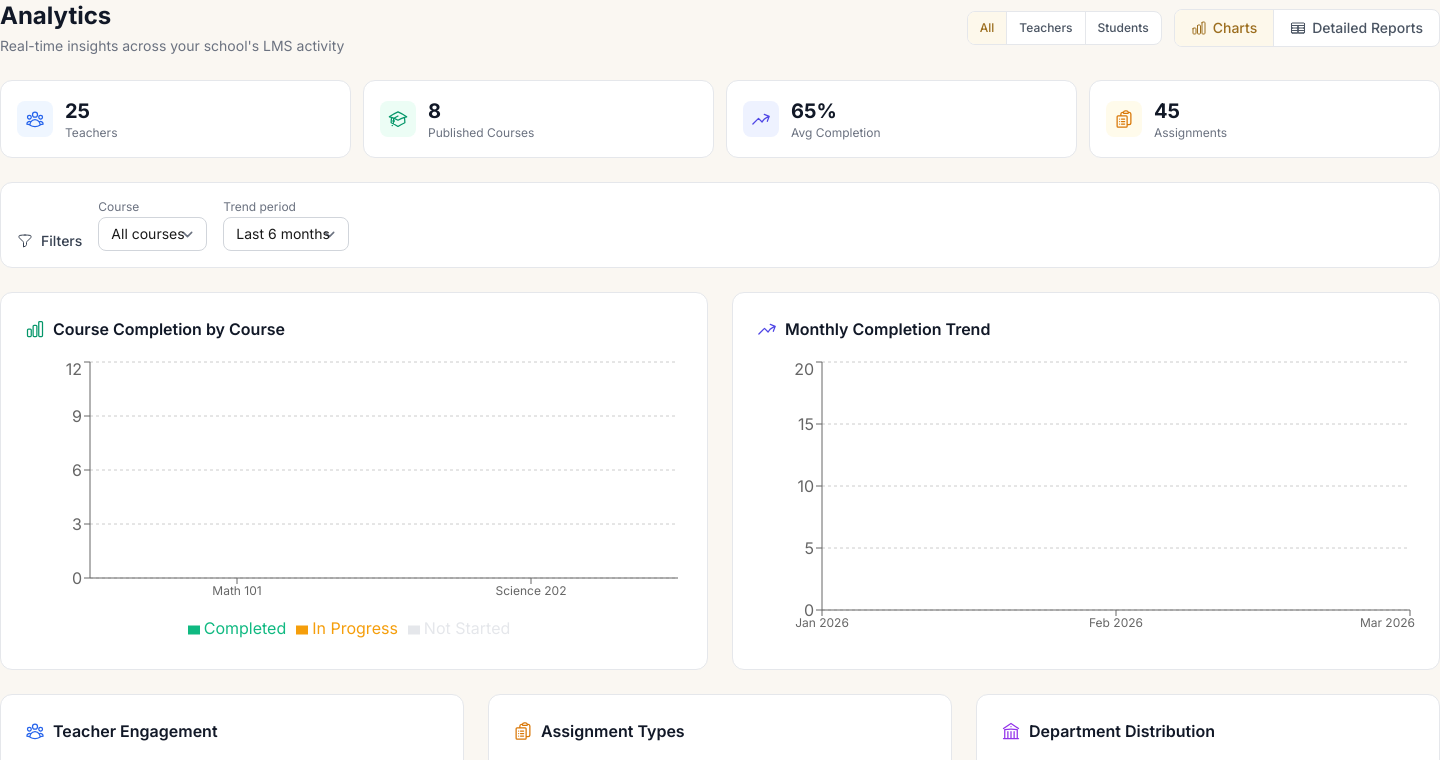
Test: AnalyticsPage › view toggle › switching back to Charts view shows charts
Go to reports
Click the button "Detailed Reports".
click(1357, 28)  # box top-left (1274, 10), bottom-right (1439, 46)
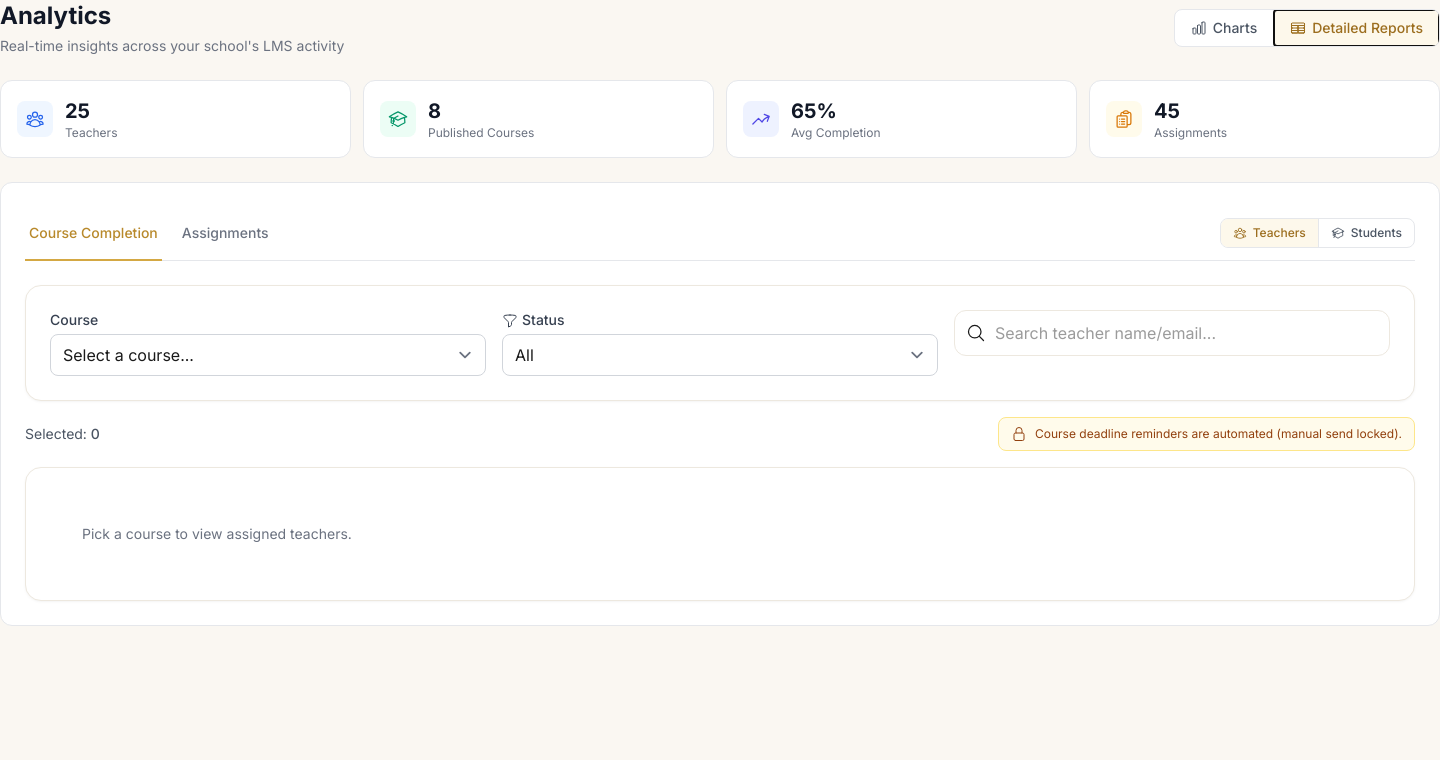
Back to charts
Click the button "Charts".
click(1224, 28)  # box top-left (1175, 10), bottom-right (1274, 46)
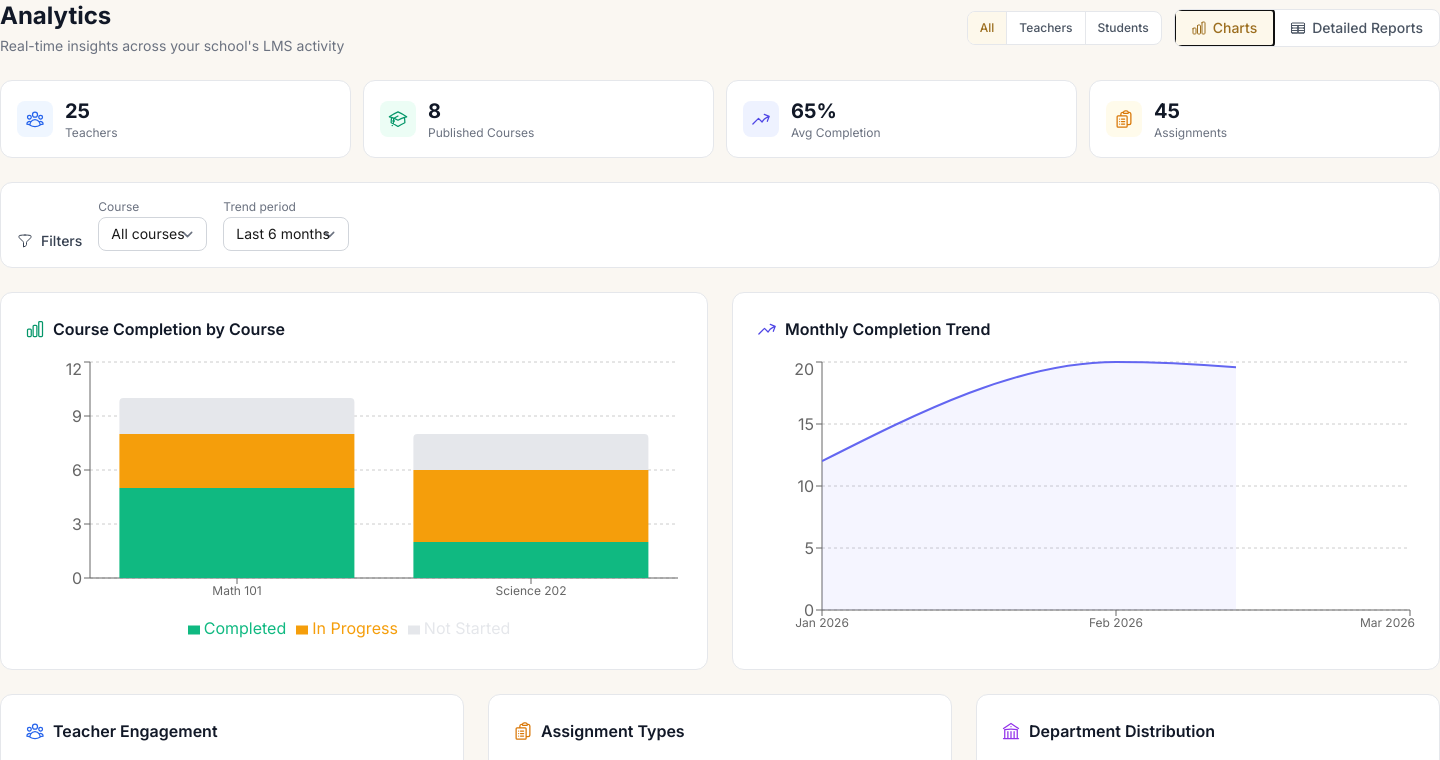
Now the button "all" is shown, box top-left (968, 12), bottom-right (1007, 44)
